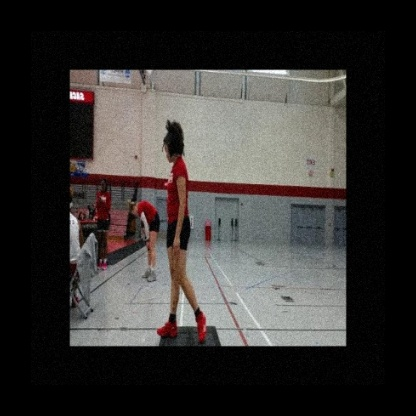lateral_flexion_left: (156, 116, 207, 346)
stance_width_broad: (156, 152, 207, 346)
